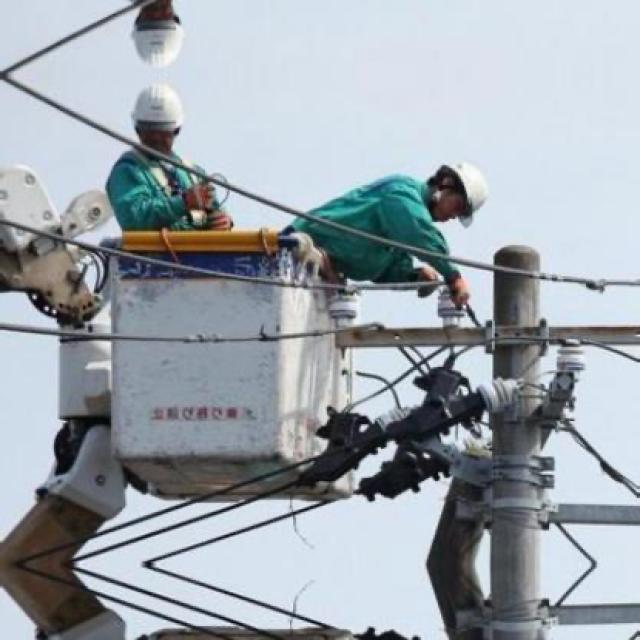con casco: (410, 157, 518, 246), (71, 91, 198, 153)
